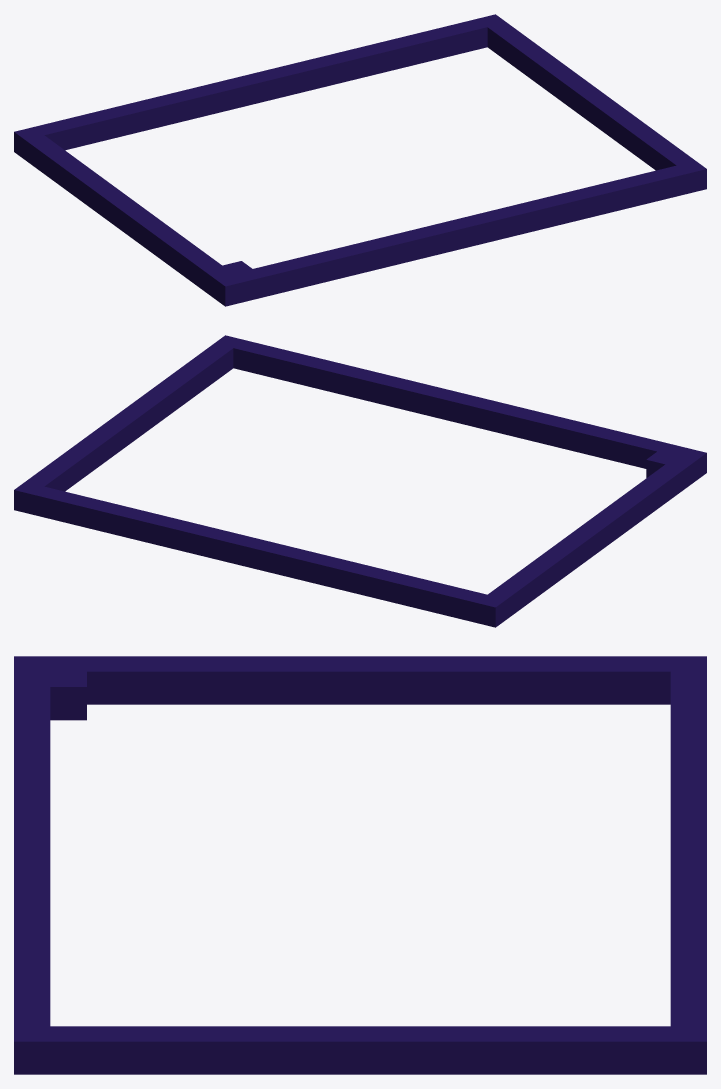
Rendered from MazeWall3.fbx.
3 views of the same model, one above another, from view 1: azimuth 30°, elevation 25°; view 2: azimuth 150°, elevation 25°; view 3: azimuth 270°, elevation 25° (orthographic). The views are drawn at different scales.
Visible parts, largest first — view 1: Wall3; view 2: Wall3; view 3: Wall3.
Part boxes in pixels (<box>): Wall3: <box>14,14,706,306</box>; Wall3: <box>14,335,706,627</box>; Wall3: <box>14,656,706,1074</box>.
Size of the model in its own units: 5000 by 200 by 3800.
